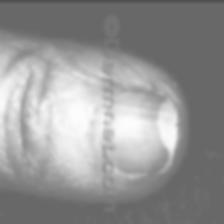Toxin: (111, 86, 180, 174)
